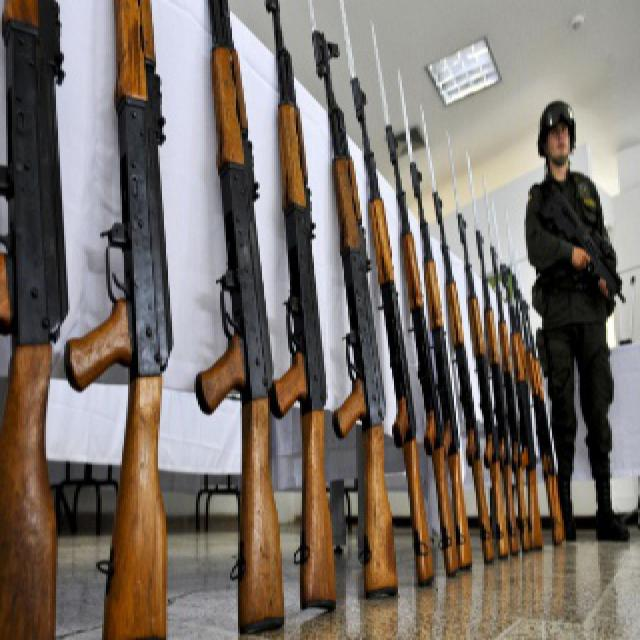long weapon: (302, 13, 412, 597), (188, 2, 282, 637), (266, 1, 334, 618)
